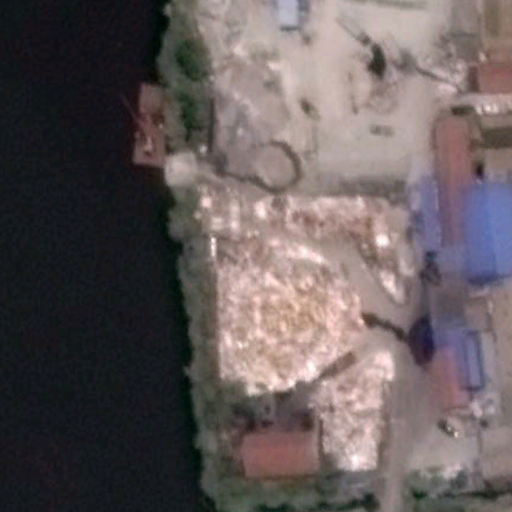msw: (210, 192, 411, 469)
